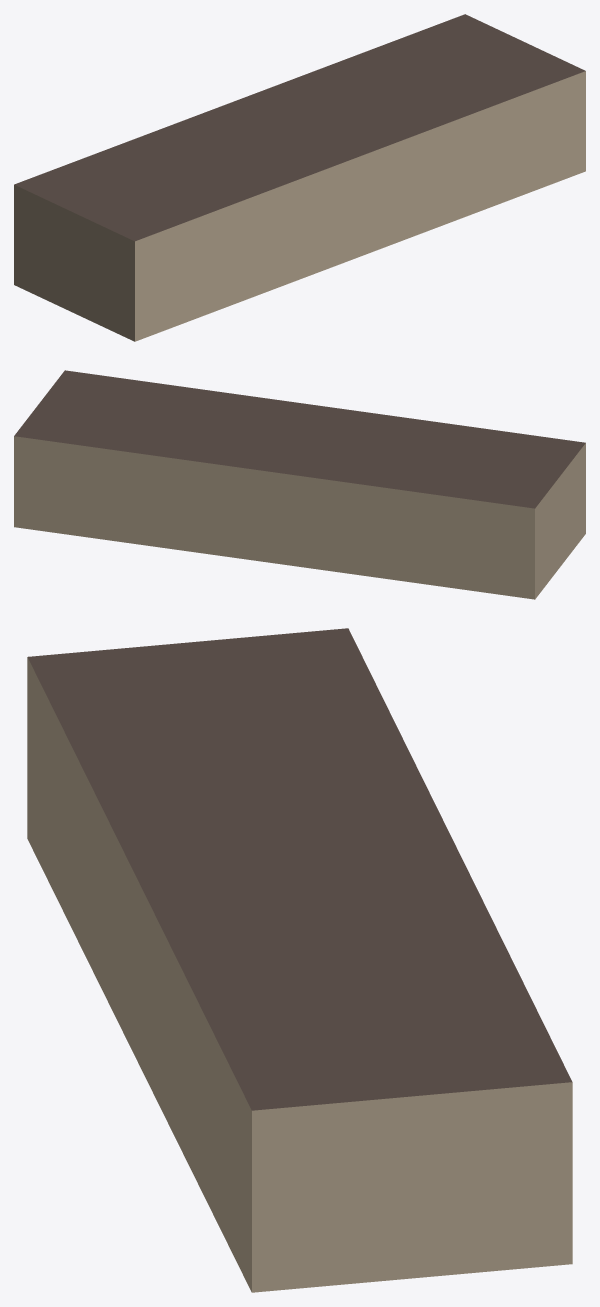
3 views of the same model, one above another, from view 1: azimuth 30°, elevation 25°; view 2: azimuth 150°, elevation 25°; view 3: azimuth 270°, elevation 25° (orthographic). The views are drawn at different scales.
Visible parts, largest first — view 1: HP-w299010083; view 2: HP-w299010083; view 3: HP-w299010083.
Boxes of the visible parts, bbox=[...] form: HP-w299010083: bbox=[14, 14, 585, 341]; HP-w299010083: bbox=[14, 370, 585, 599]; HP-w299010083: bbox=[27, 628, 572, 1292].
Bounding box in the file's own units: 51.16 × 9 × 24.43.
